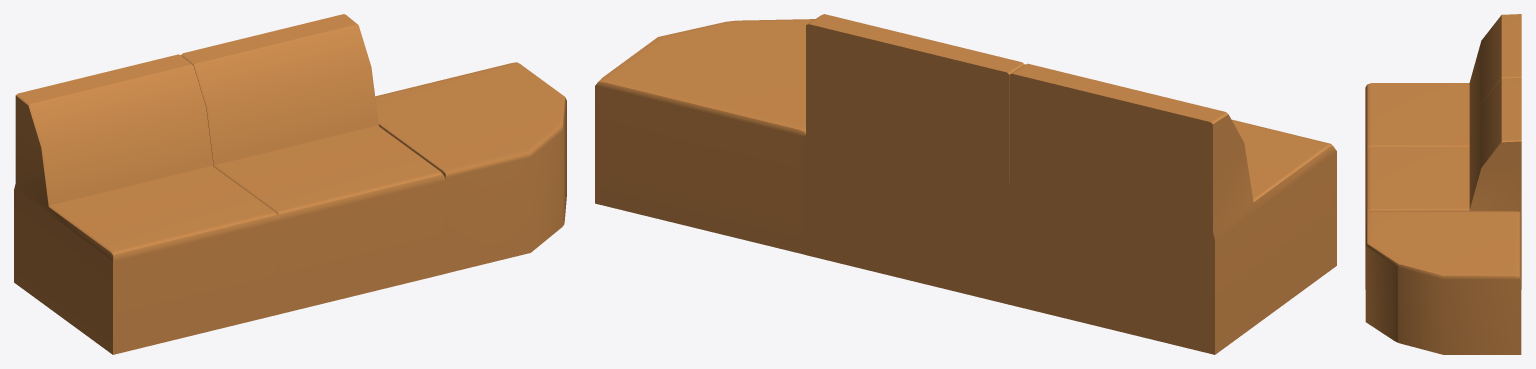
The model's file is small_sofa2.fbx.
3 renders of one model, left to right at view 1: azimuth 30°, elevation 25°; view 2: azimuth 150°, elevation 25°; view 3: azimuth 270°, elevation 25°, orthographic. The views are drawn at different scales.
Visible parts, largest first — view 1: small_sofa2; view 2: small_sofa2; view 3: small_sofa2.
Boxes of the visible parts, left/top/right/bottom form: small_sofa2: left=14, top=14, right=566, bottom=354; small_sofa2: left=595, top=14, right=1336, bottom=354; small_sofa2: left=1365, top=14, right=1521, bottom=354.
Size of the model in its own units: 0.0164 by 0.00587 by 0.0056.
1 material, 1 textured.
